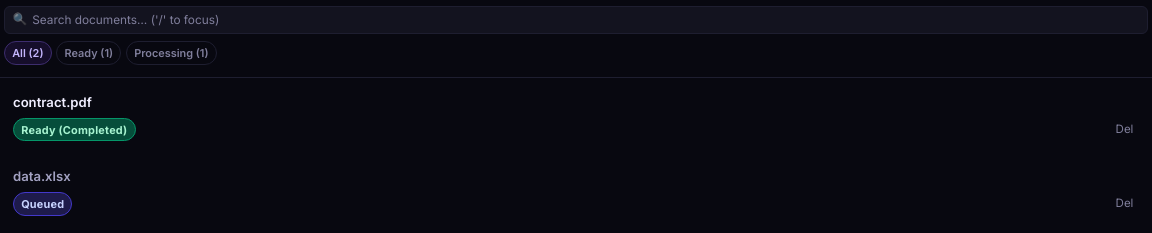
Test case: filters documents by status pills
# Click "Ready" pill
Click the button "Ready (1)": (89, 53) 56,41 -> 121,65
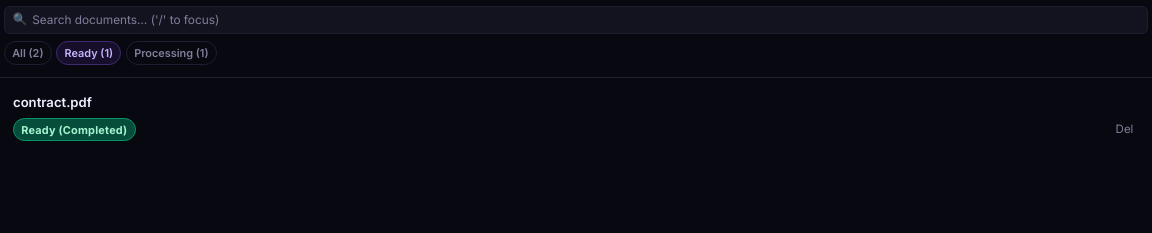
Check: the button "contract.pdf" is shown, box 13,93 -> 1139,113
Check: the button "data.xlsx" is gone
# Click "Processing" pill
Click the button "Processing (1)": (171, 53) 126,41 -> 217,65
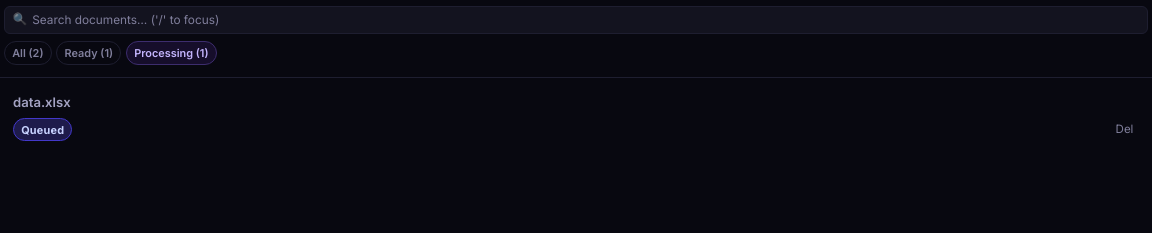
Check: the button "contract.pdf" is gone
Check: the button "data.xlsx" is shown, box 13,93 -> 1139,113
# Click "All" pill
Click the button "All (2)": (28, 53) 4,41 -> 52,65
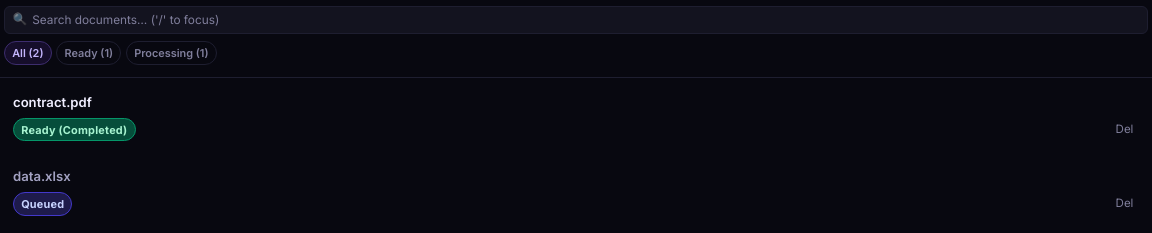
Check: the button "data.xlsx" is shown, box 13,167 -> 1139,187
Check: the button "contract.pdf" is shown, box 13,93 -> 1139,113
